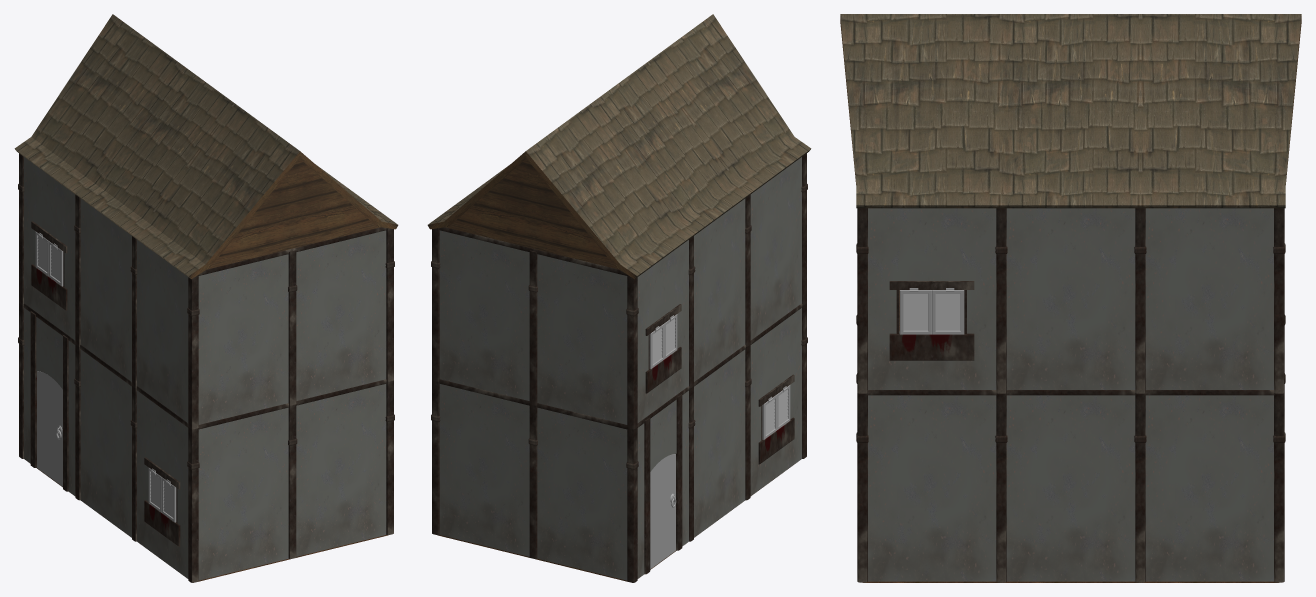
The model's file is Trial Building.fbx.
3 views of the same model, side by side, from view 1: azimuth 30°, elevation 25°; view 2: azimuth 150°, elevation 25°; view 3: azimuth 270°, elevation 25° (orthographic). The views are drawn at different scales.
Parts seen in each view (by area): view 1: Floor_Plain12; view 2: Floor_Plain12; view 3: Floor_Plain12.
Boxes of the visible parts, box(x1,y1,x2,y2) form: Floor_Plain12: box(14, 14, 398, 582); Floor_Plain12: box(427, 14, 811, 582); Floor_Plain12: box(840, 14, 1301, 582).
Size of the model in its own units: 429 by 811 by 664.
